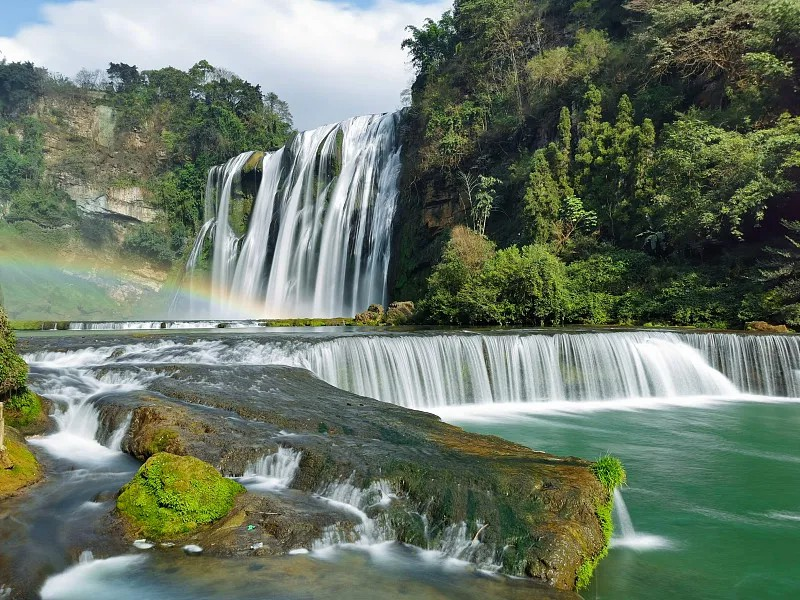Huangguoshu: (189, 110, 402, 321)
